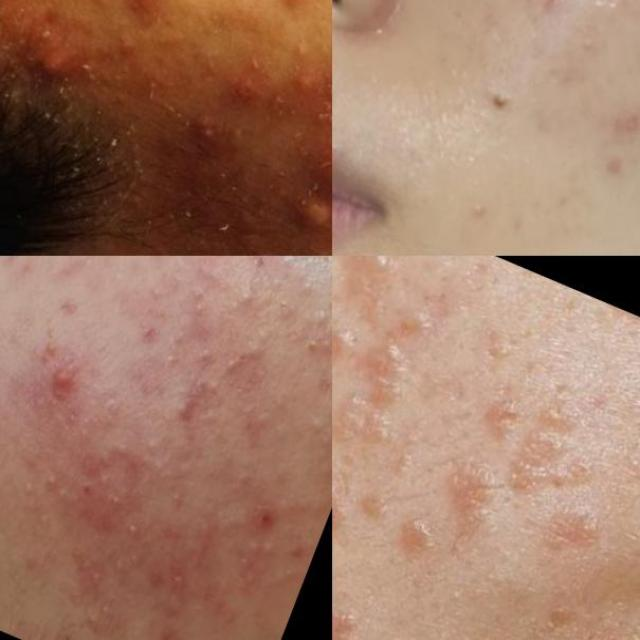acne_scars: (577, 95, 640, 196), (620, 18, 640, 94)
comedone: (270, 274, 332, 366), (442, 174, 508, 243), (216, 271, 267, 327), (62, 588, 116, 640), (240, 531, 278, 584), (214, 343, 256, 389), (559, 21, 600, 68), (154, 330, 189, 376), (290, 262, 326, 302), (130, 447, 174, 479), (115, 511, 153, 548), (99, 547, 135, 584), (121, 538, 153, 578), (222, 467, 256, 503), (185, 286, 216, 322), (302, 413, 332, 448), (102, 434, 136, 464), (190, 343, 218, 375), (163, 568, 192, 598), (161, 484, 190, 514), (29, 503, 60, 531), (312, 99, 332, 138), (144, 278, 168, 306), (18, 475, 40, 504), (266, 420, 286, 450), (94, 464, 118, 489), (40, 469, 60, 492)
cystic: (284, 183, 332, 250)
flat_wart: (470, 378, 612, 534), (332, 309, 428, 472), (450, 343, 553, 462), (420, 442, 512, 550), (373, 487, 460, 574), (528, 487, 613, 573), (332, 256, 426, 318), (342, 468, 407, 536), (332, 445, 363, 583), (494, 623, 568, 640)
papule: (28, 350, 98, 416), (148, 385, 206, 433), (96, 0, 165, 35), (286, 60, 326, 102)
pustule: (276, 0, 316, 11)
sebo-crystan-conglo: (21, 26, 90, 96), (169, 88, 232, 160), (309, 132, 332, 229)
